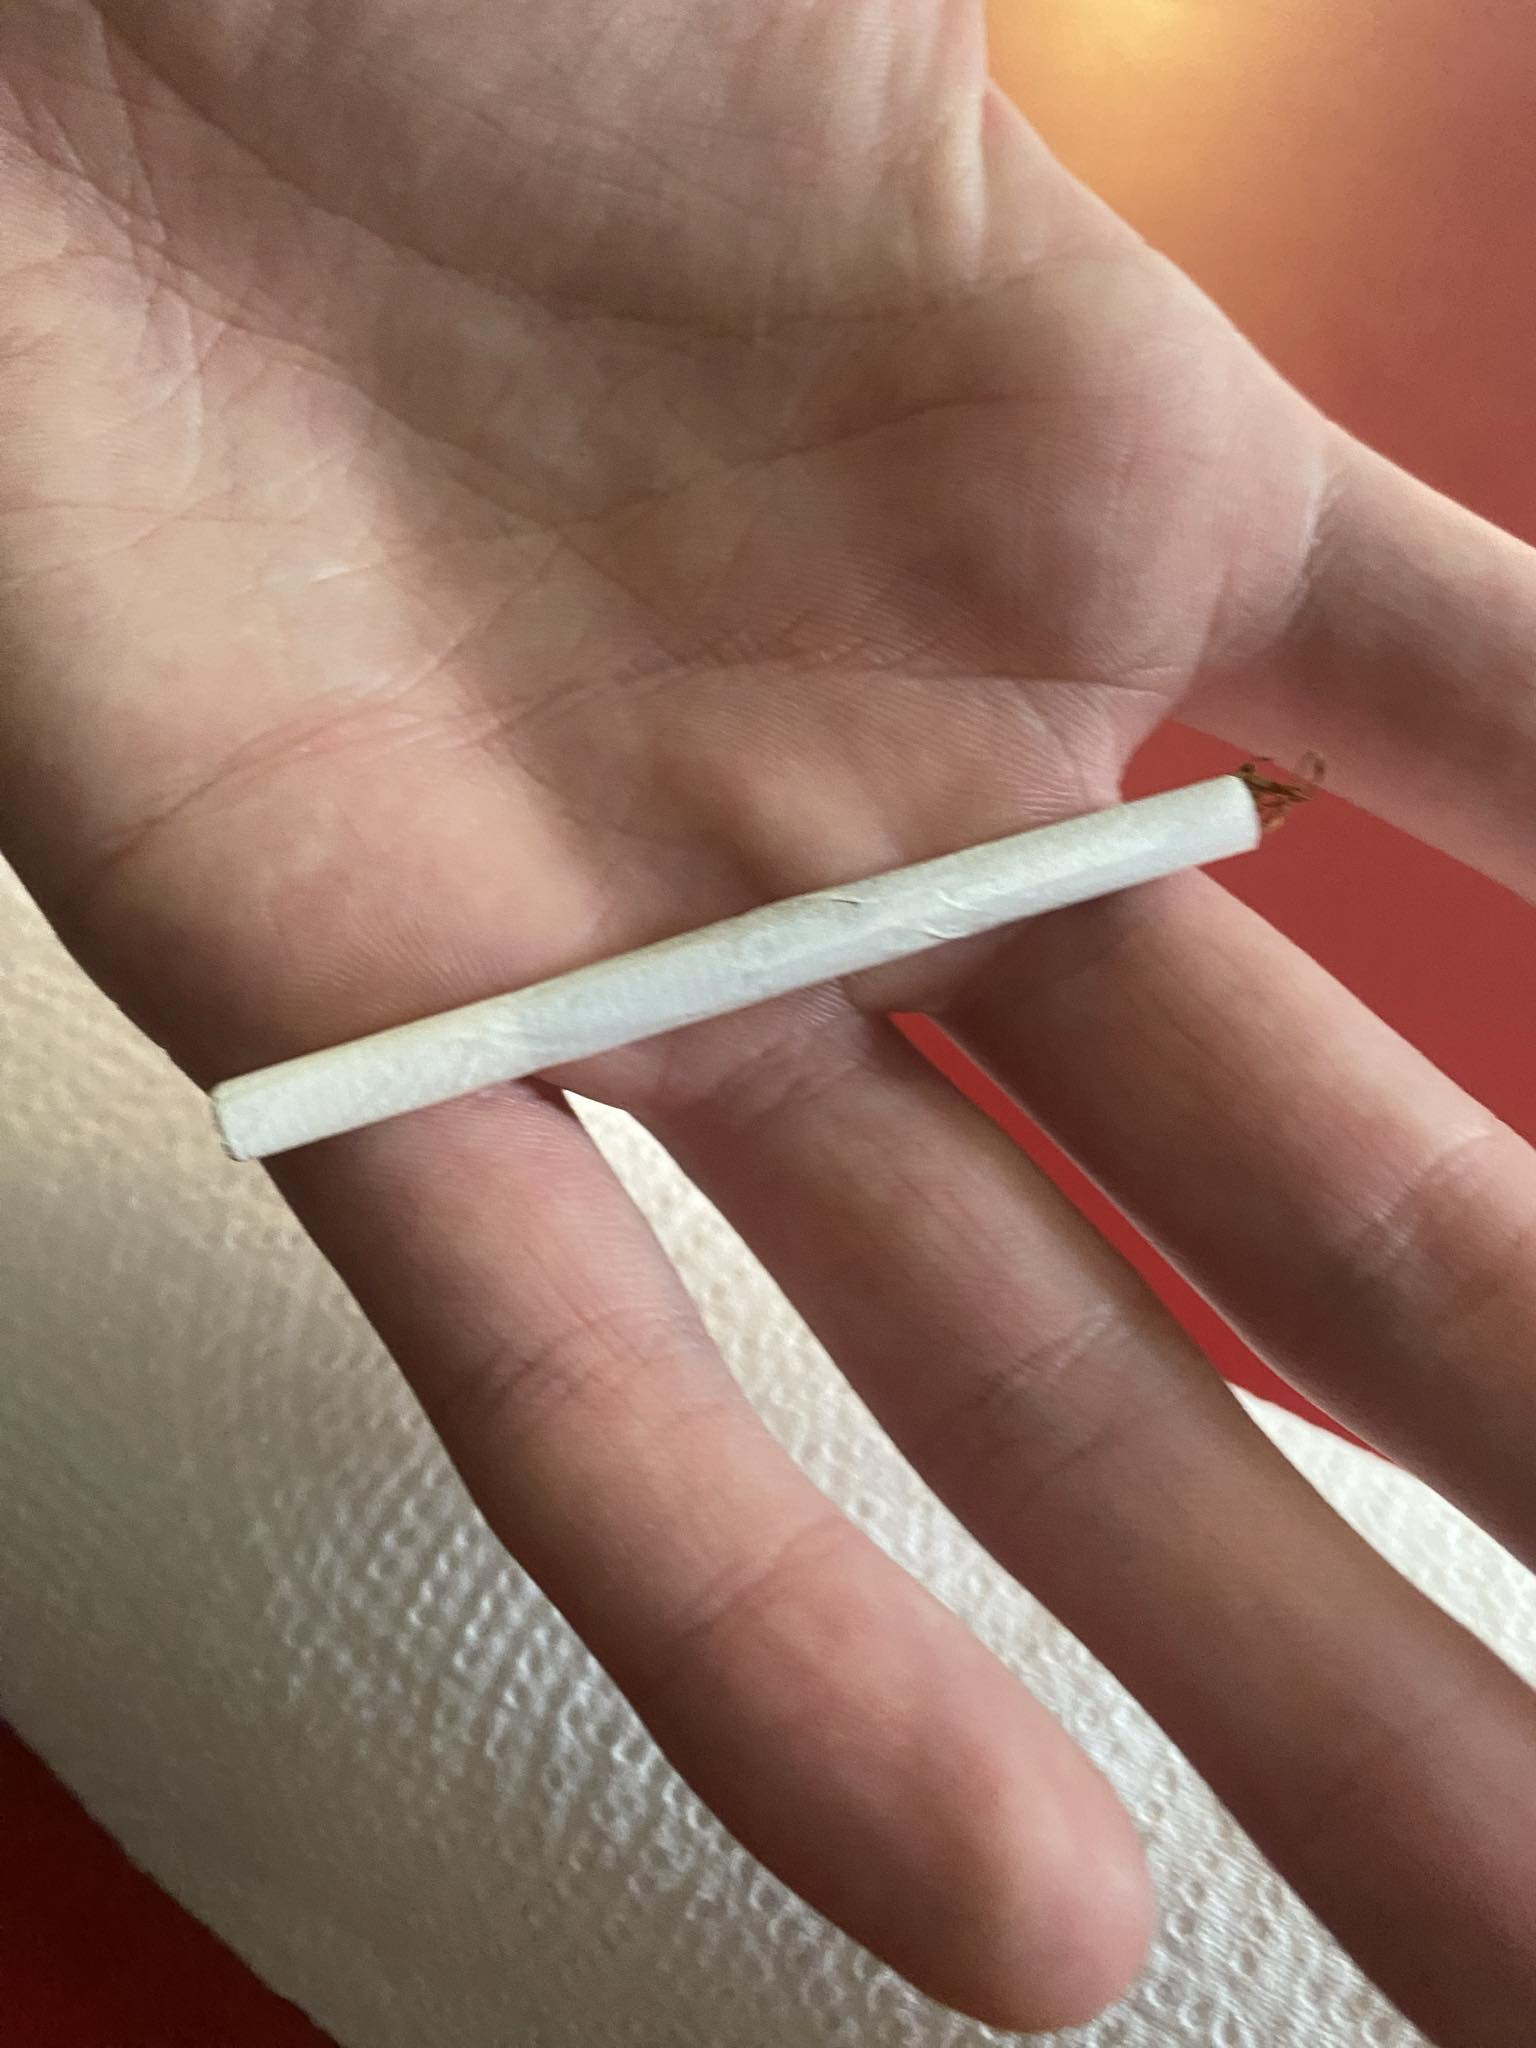Cigarette: (213, 772, 1334, 1164)
